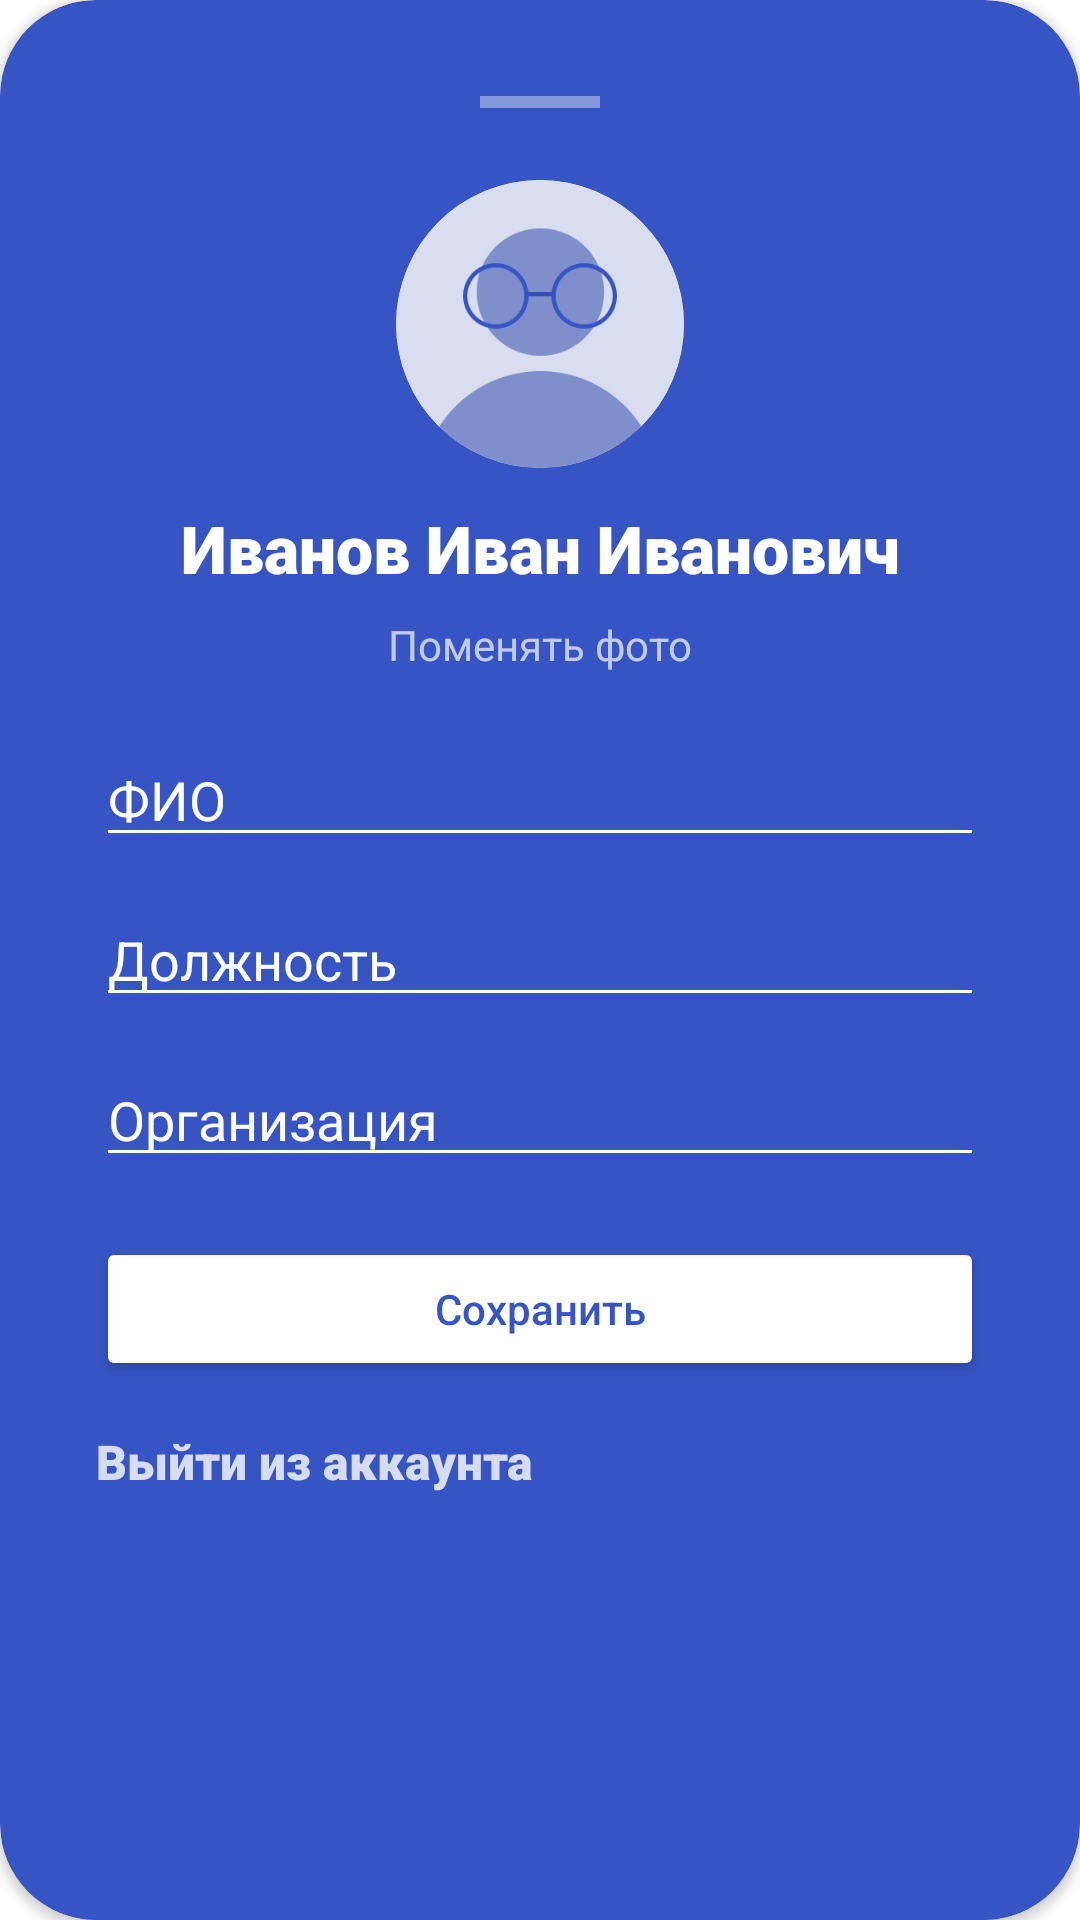

Screen size 1080w x 1920h. Icon name, then its box in pixels as (x1, y1, x2, y2):
userphoto: (396, 180, 684, 468)
